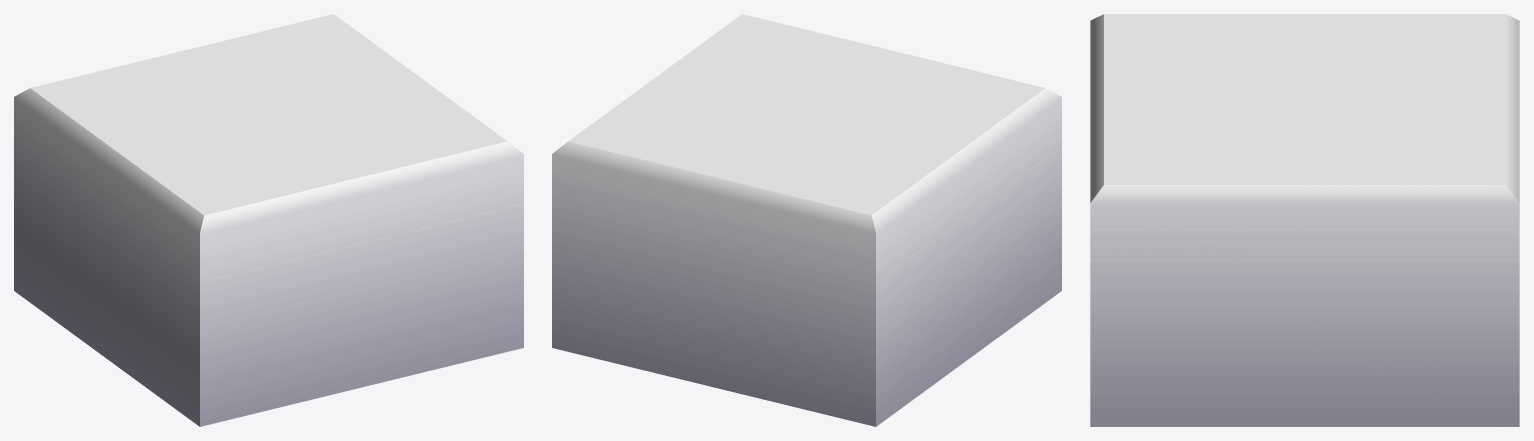
Rendered from brick-kit--none-hq-brick-2x2.glb.
3 views of the same model, side by side, from view 1: azimuth 30°, elevation 25°; view 2: azimuth 150°, elevation 25°; view 3: azimuth 270°, elevation 25° (orthographic). The views are drawn at different scales.
Parts seen in each view (by area): view 1: none-hq-brick-2x2; view 2: none-hq-brick-2x2; view 3: none-hq-brick-2x2.
Part boxes in pixels (<box>): none-hq-brick-2x2: <box>14,14,523,426</box>; none-hq-brick-2x2: <box>552,14,1061,426</box>; none-hq-brick-2x2: <box>1090,14,1519,426</box>.
Size of the model in its own units: 0.159 by 0.096 by 0.158.
Materials: 1 (1 with a texture image).
